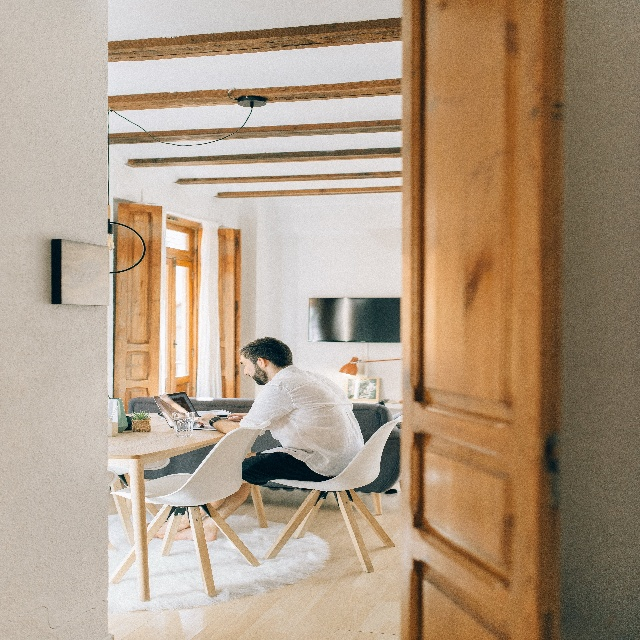Sin_guantes: (196, 415, 214, 426)
